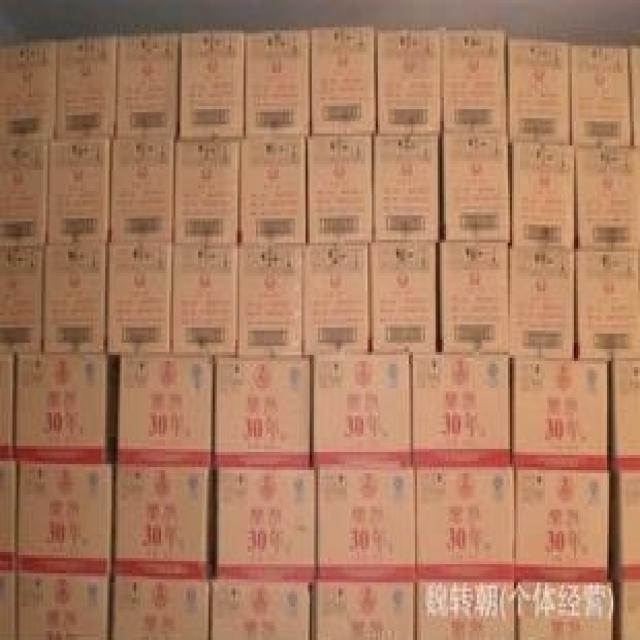box: (312, 352, 413, 467), (415, 467, 516, 582), (217, 467, 318, 579), (316, 467, 417, 579), (413, 355, 514, 464), (17, 461, 111, 576), (116, 358, 215, 467), (114, 467, 209, 579), (215, 355, 310, 467), (516, 470, 609, 582), (514, 361, 611, 467), (14, 355, 107, 461), (107, 240, 173, 358), (442, 243, 510, 355), (510, 246, 576, 361), (47, 130, 111, 246), (169, 246, 235, 358), (239, 136, 306, 246), (244, 30, 310, 140), (444, 133, 510, 243), (180, 30, 244, 143), (310, 27, 376, 136), (303, 243, 367, 355), (237, 246, 301, 358), (43, 240, 107, 352), (308, 133, 372, 243), (376, 27, 440, 136), (576, 252, 640, 361), (372, 243, 436, 352), (374, 136, 438, 243), (116, 30, 180, 136), (508, 36, 570, 143), (444, 30, 508, 133), (576, 149, 640, 252), (173, 143, 237, 246), (512, 143, 574, 249), (17, 570, 109, 640), (111, 140, 173, 240), (314, 579, 415, 640), (211, 579, 312, 640), (111, 579, 211, 640), (572, 42, 630, 146), (56, 36, 116, 136), (415, 582, 516, 640), (514, 582, 611, 640), (0, 42, 56, 140), (0, 136, 45, 246), (0, 246, 43, 355), (613, 361, 640, 470), (615, 470, 640, 585), (2, 458, 17, 570), (0, 355, 14, 461), (619, 585, 640, 640), (630, 45, 640, 149), (0, 573, 14, 640)
